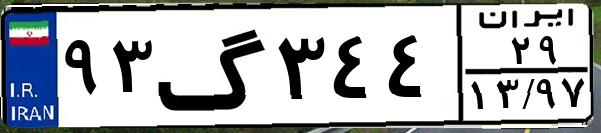1: (470, 70, 495, 125)
2: (508, 27, 537, 80)
3: (270, 28, 330, 110), (110, 28, 156, 98), (495, 70, 520, 125)
4: (385, 28, 445, 110), (330, 28, 385, 110)
7: (560, 70, 590, 125)
9: (57, 26, 110, 100), (537, 27, 568, 80), (535, 70, 560, 125)
گ: (156, 12, 270, 120)
